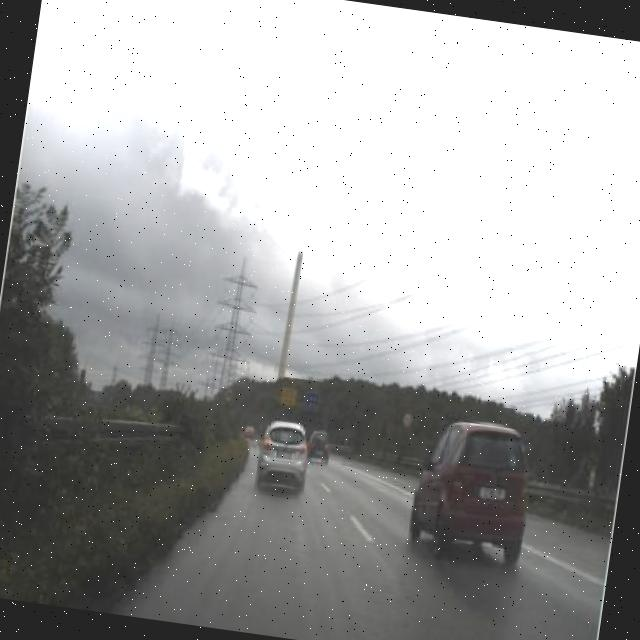Ograniczenie predkosci do 100: (400, 408, 416, 432), (222, 384, 237, 406)
